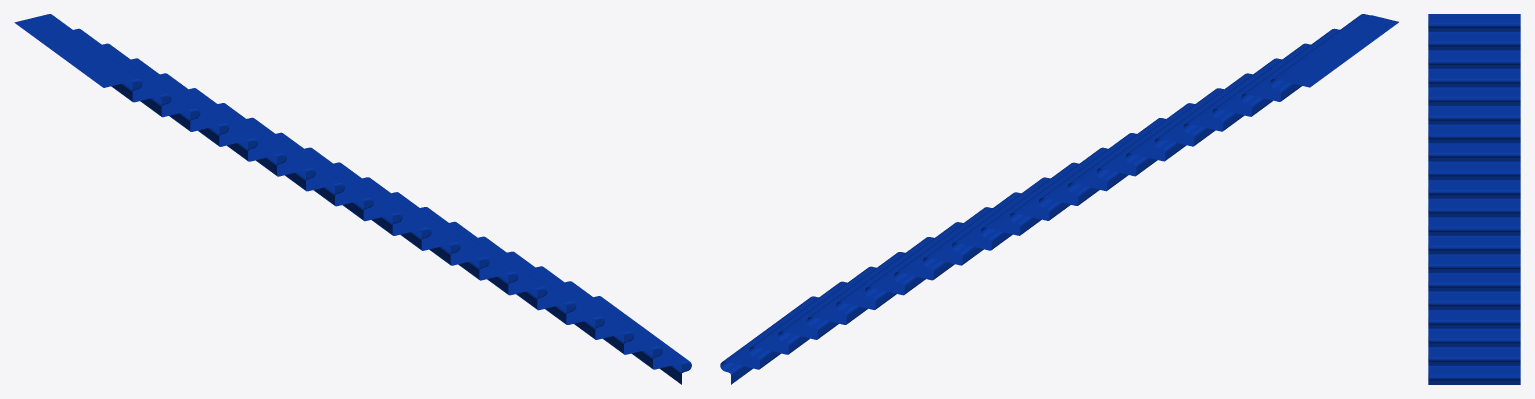
The model's file is StairTest3_high.fbx.
3 renders of one model, left to right at view 1: azimuth 30°, elevation 25°; view 2: azimuth 150°, elevation 25°; view 3: azimuth 270°, elevation 25°, orthographic. The views are drawn at different scales.
Visible parts, largest first — view 1: Stairs11; view 2: Stairs11; view 3: Stairs11.
Part boxes in pixels (<box>): Stairs11: <box>14,14,691,384</box>; Stairs11: <box>720,14,1398,384</box>; Stairs11: <box>1428,14,1520,384</box>.
Bounding box in the file's own units: 28.12 × 19.99 × 7.41.
